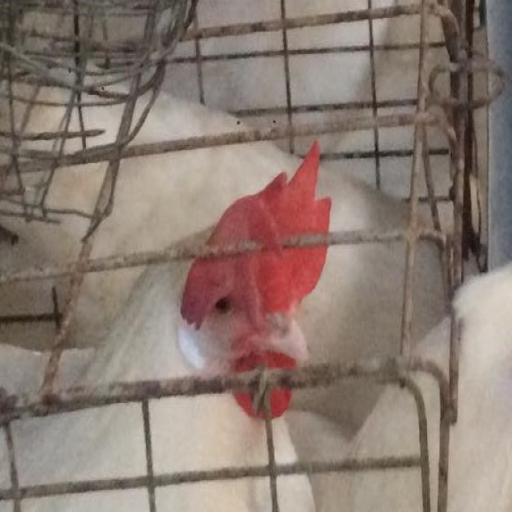healthy: (197, 143, 332, 400)
